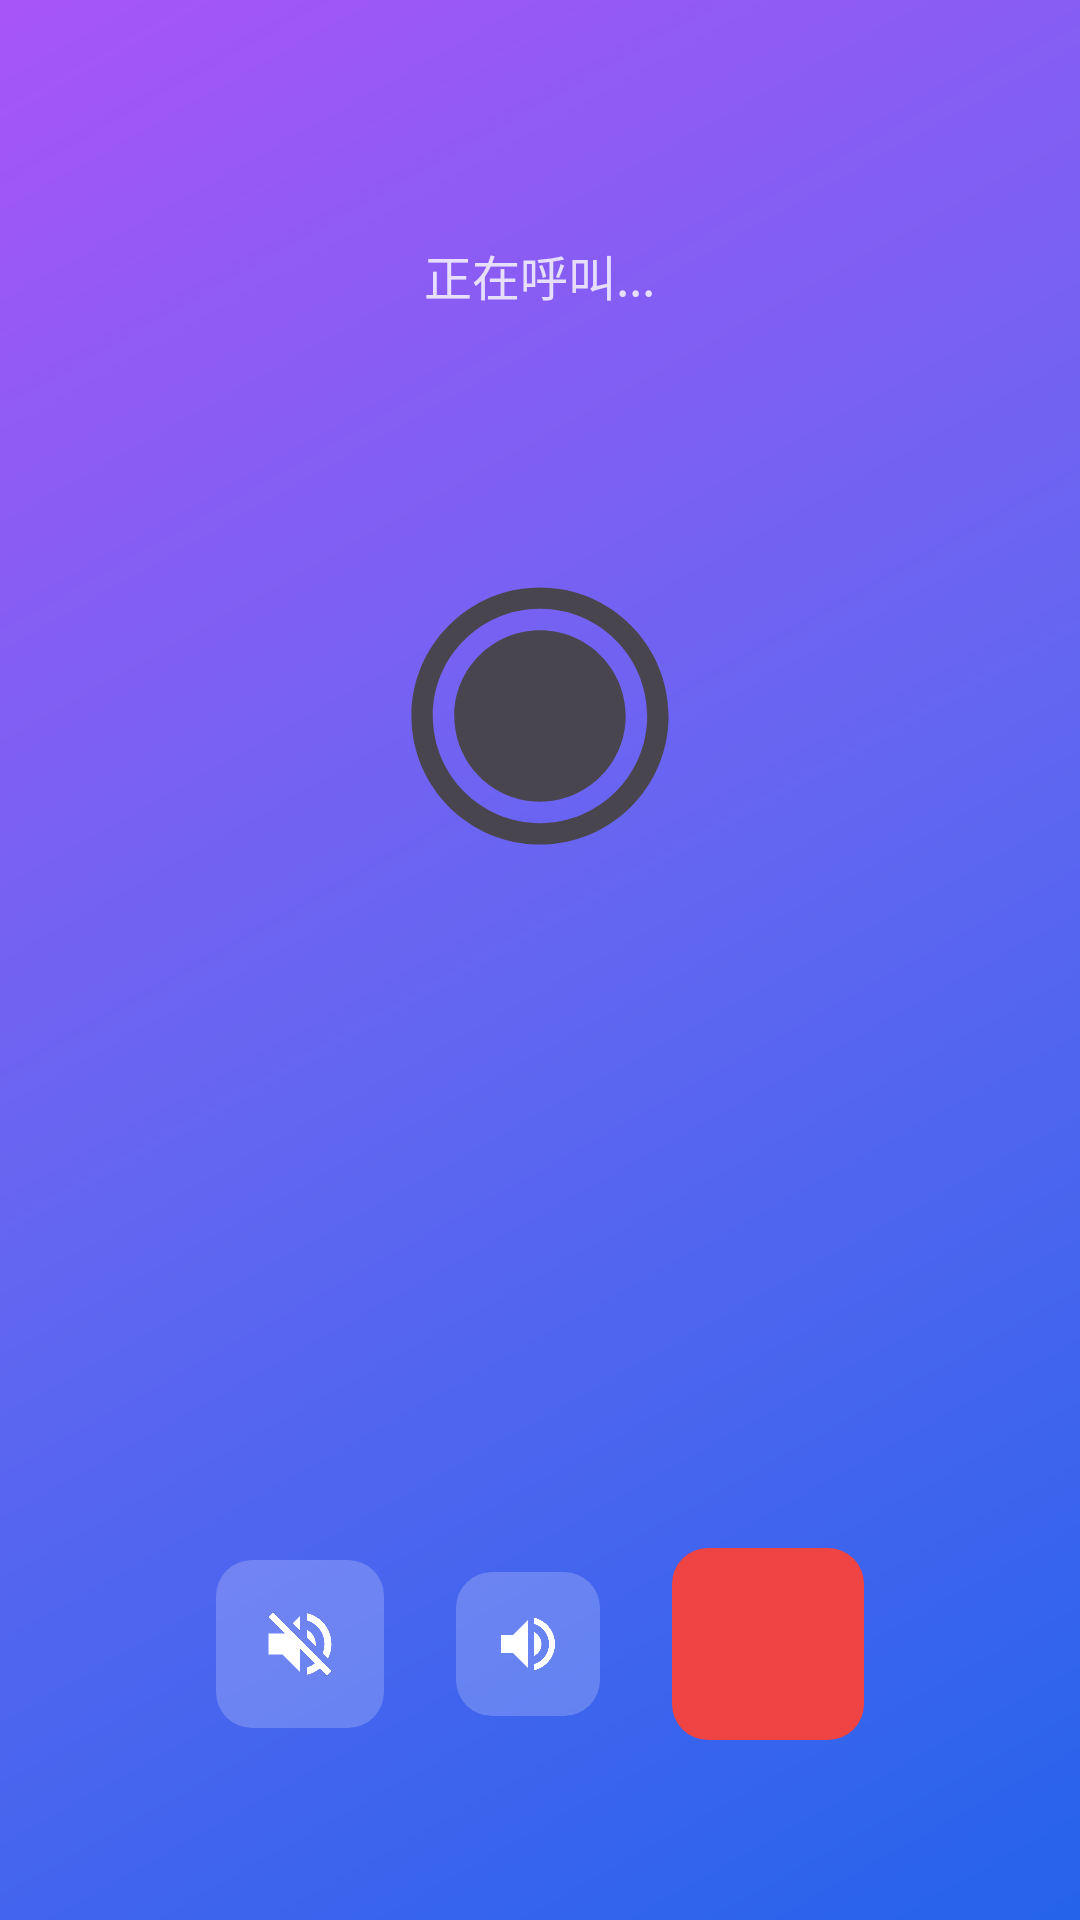

Icons on this 1080×1920 Android screen, each with the point to tap as [x,y]:
mute: [300,1644]
speaker: [528,1644]
